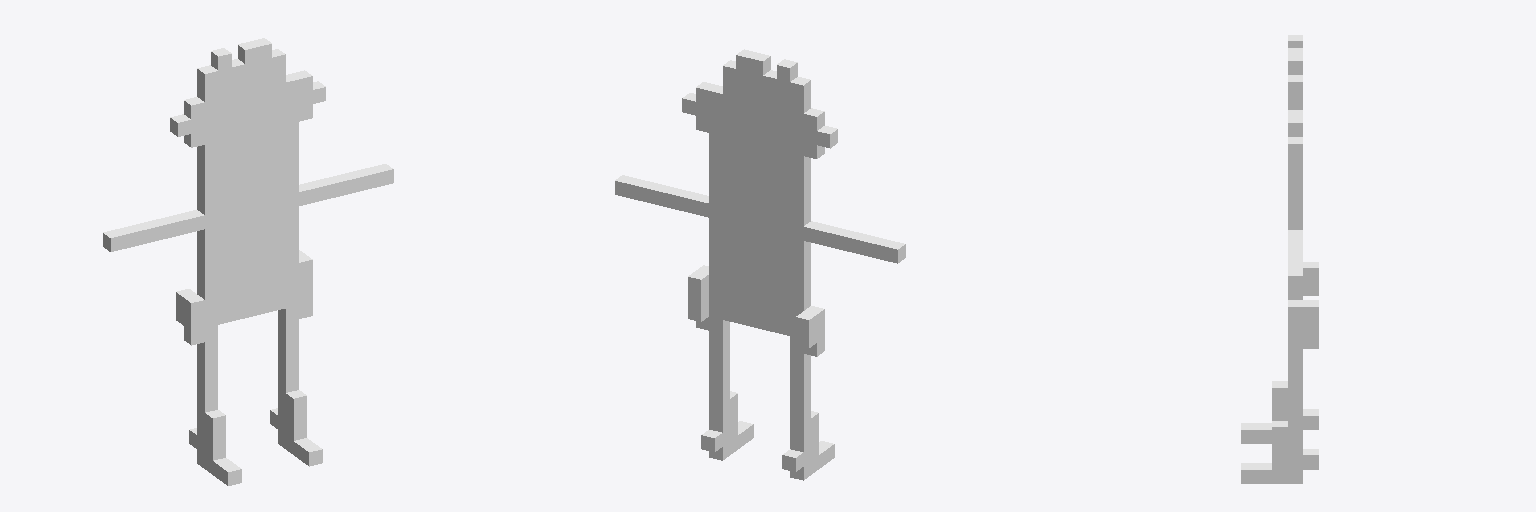
Rendered from bandito_v1.obj.
3 views of the same model, side by side, from view 1: azimuth 30°, elevation 25°; view 2: azimuth 150°, elevation 25°; view 3: azimuth 270°, elevation 25° (orthographic).
Visible parts, largest first — view 1: bandito_v1; view 2: bandito_v1; view 3: bandito_v1.
Boxes of the visible parts, x1=… form: bandito_v1: x1=103, y1=38, x2=393, y2=485; bandito_v1: x1=615, y1=49, x2=905, y2=480; bandito_v1: x1=1241, y1=35, x2=1318, y2=483.
Bounding box in the file's own units: 21 × 29 × 5.